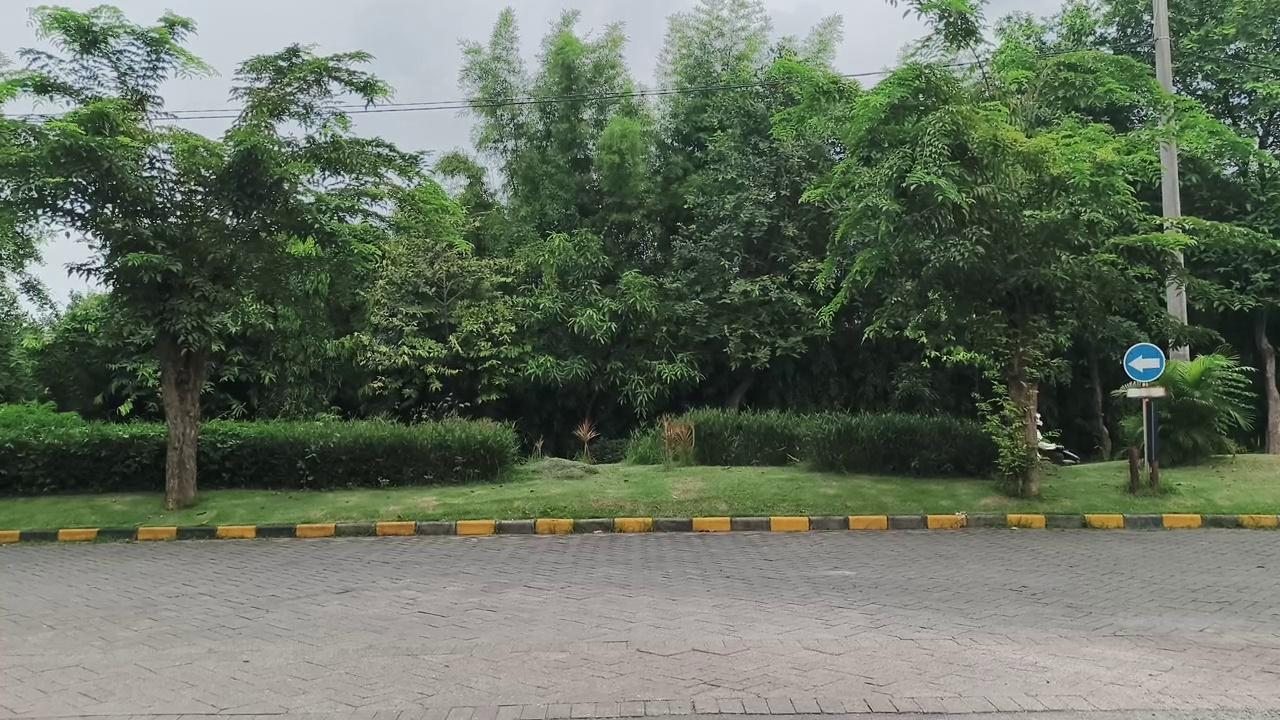Motor: (1037, 413, 1080, 465)
